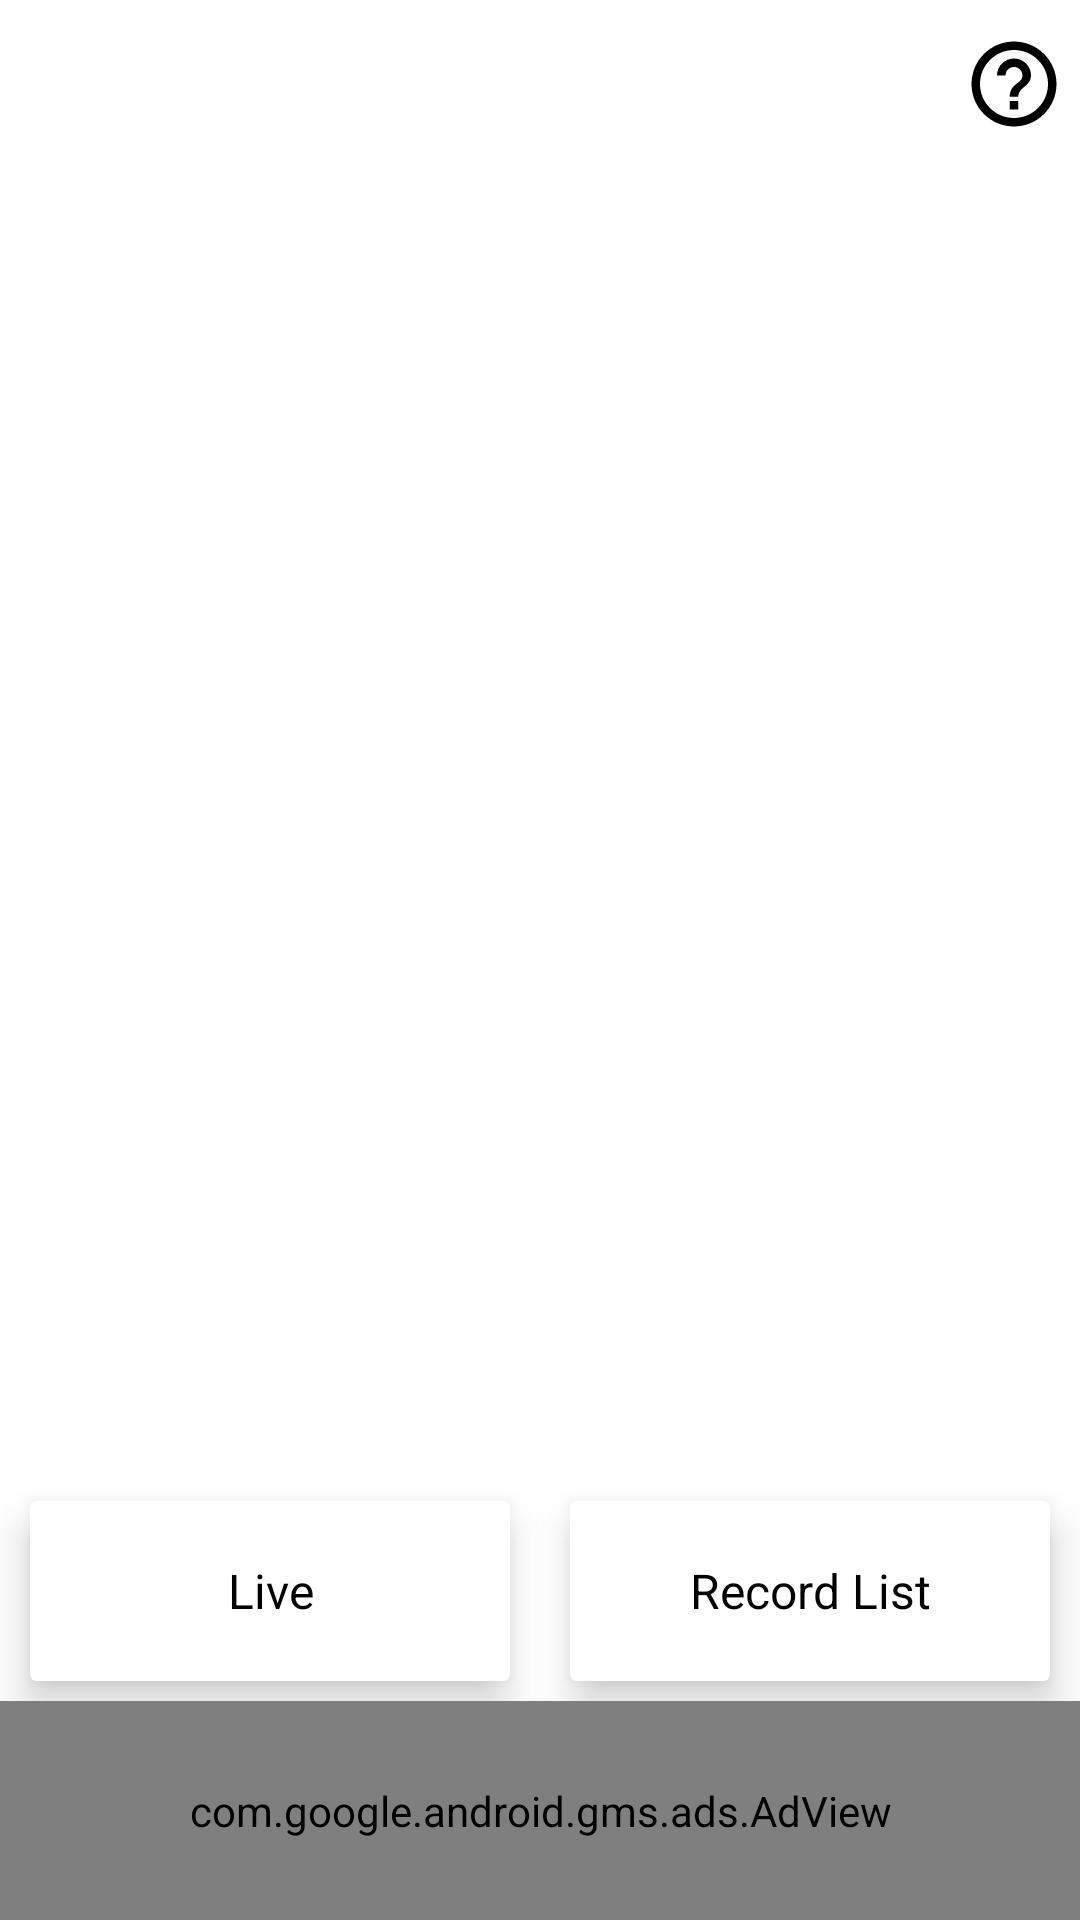

Named icons in this screenshot (1080x1920) and their bounding boxes, Rect(x1, y1, x2, y2):
help: Rect(971, 41, 1057, 127)
